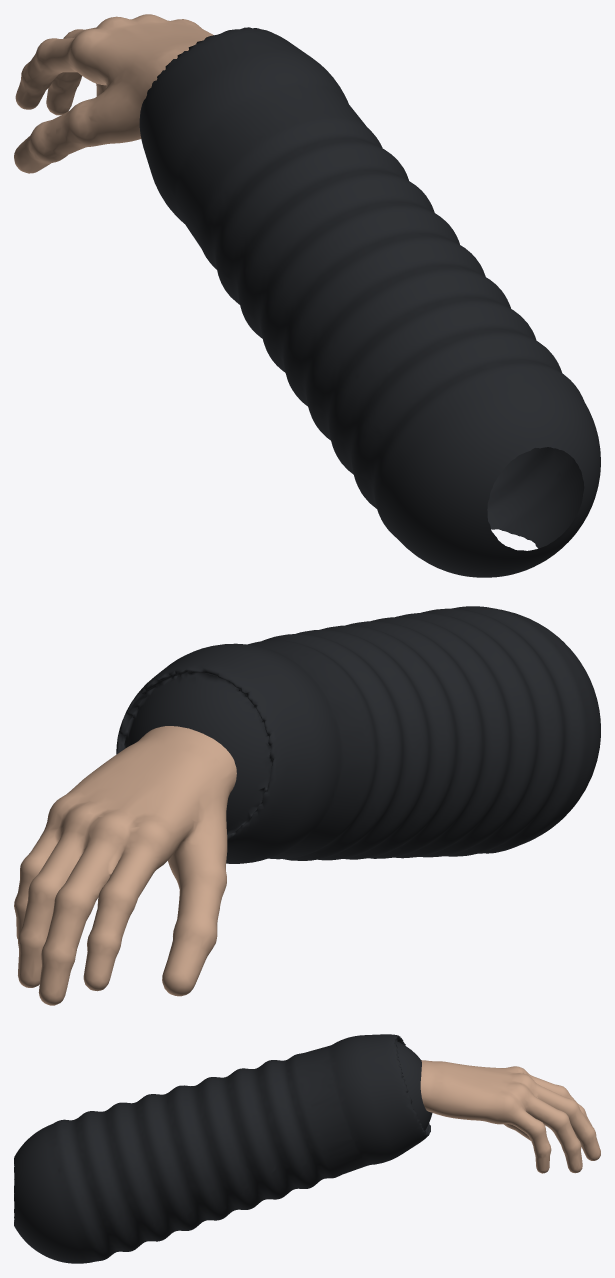
The model's file is his_right_open.glb.
3 renders of one model, top to bottom at view 1: azimuth 30°, elevation 25°; view 2: azimuth 150°, elevation 25°; view 3: azimuth 270°, elevation 25°, orthographic. The views are drawn at different scales.
Visible parts, largest first — view 1: his_right_open; view 2: his_right_open; view 3: his_right_open.
Boxes of the visible parts, <box> form: his_right_open: <box>14,14,600,577</box>; his_right_open: <box>14,606,600,1005</box>; his_right_open: <box>14,1034,600,1263</box>.
Size of the model in its own units: 0.1385 by 0.2186 by 0.5548.
